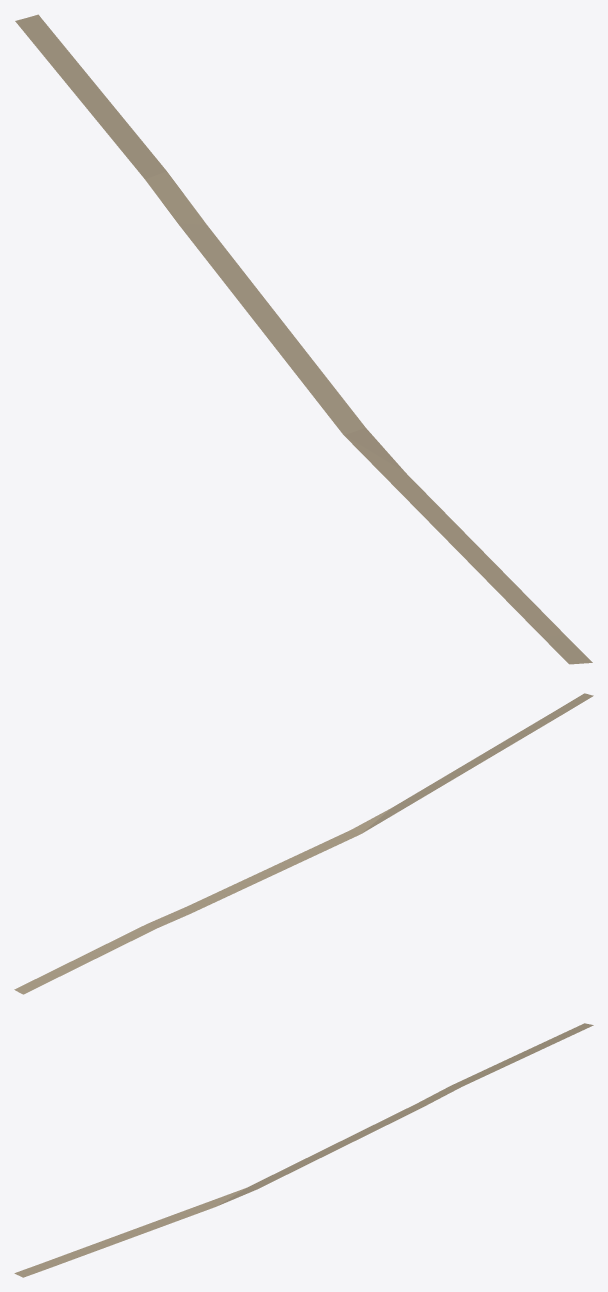
Rendered from farm_-58_-50_track.glb.
The picture shows the model from 3 angles, top to bottom: view 1: azimuth 30°, elevation 25°; view 2: azimuth 150°, elevation 25°; view 3: azimuth 330°, elevation 25°; orthographic projection. The views are drawn at different scales.
Visible parts, largest first — view 1: geometry_0; view 2: geometry_0; view 3: geometry_0.
Boxes of the visible parts, left/top/right/bottom form: geometry_0: left=15, top=14, right=592, bottom=664; geometry_0: left=14, top=693, right=593, bottom=994; geometry_0: left=14, top=1023, right=593, bottom=1277.
Size of the model in its own units: 47.8 by 7.64 by 224.
